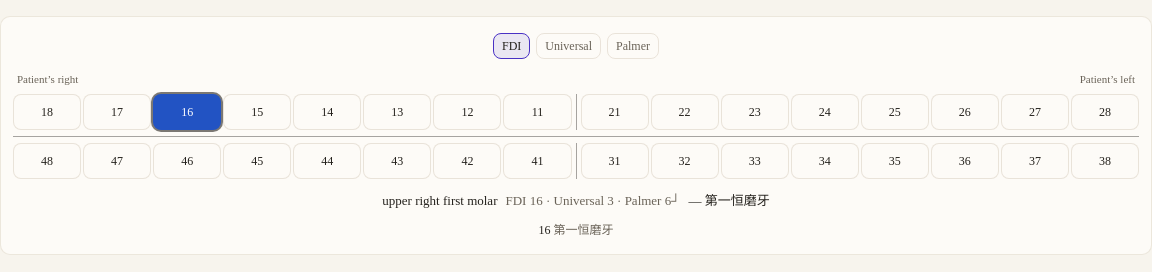
Test: morphology figures › shows an FDI chart and converts the notation
The image size is (1152, 272).
Check: the button "16" is shown, box left=153, top=94, right=221, bottom=130
Click the button "Universal": (569, 46) left=536, top=33, right=601, bottom=59
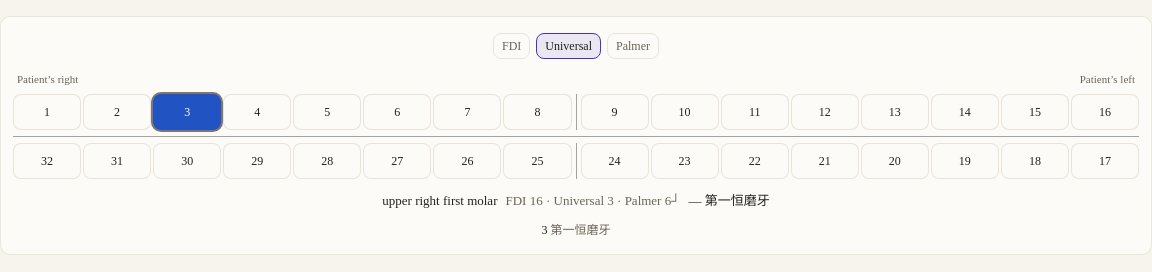
Check: the button "3" is shown, box left=153, top=94, right=221, bottom=130
